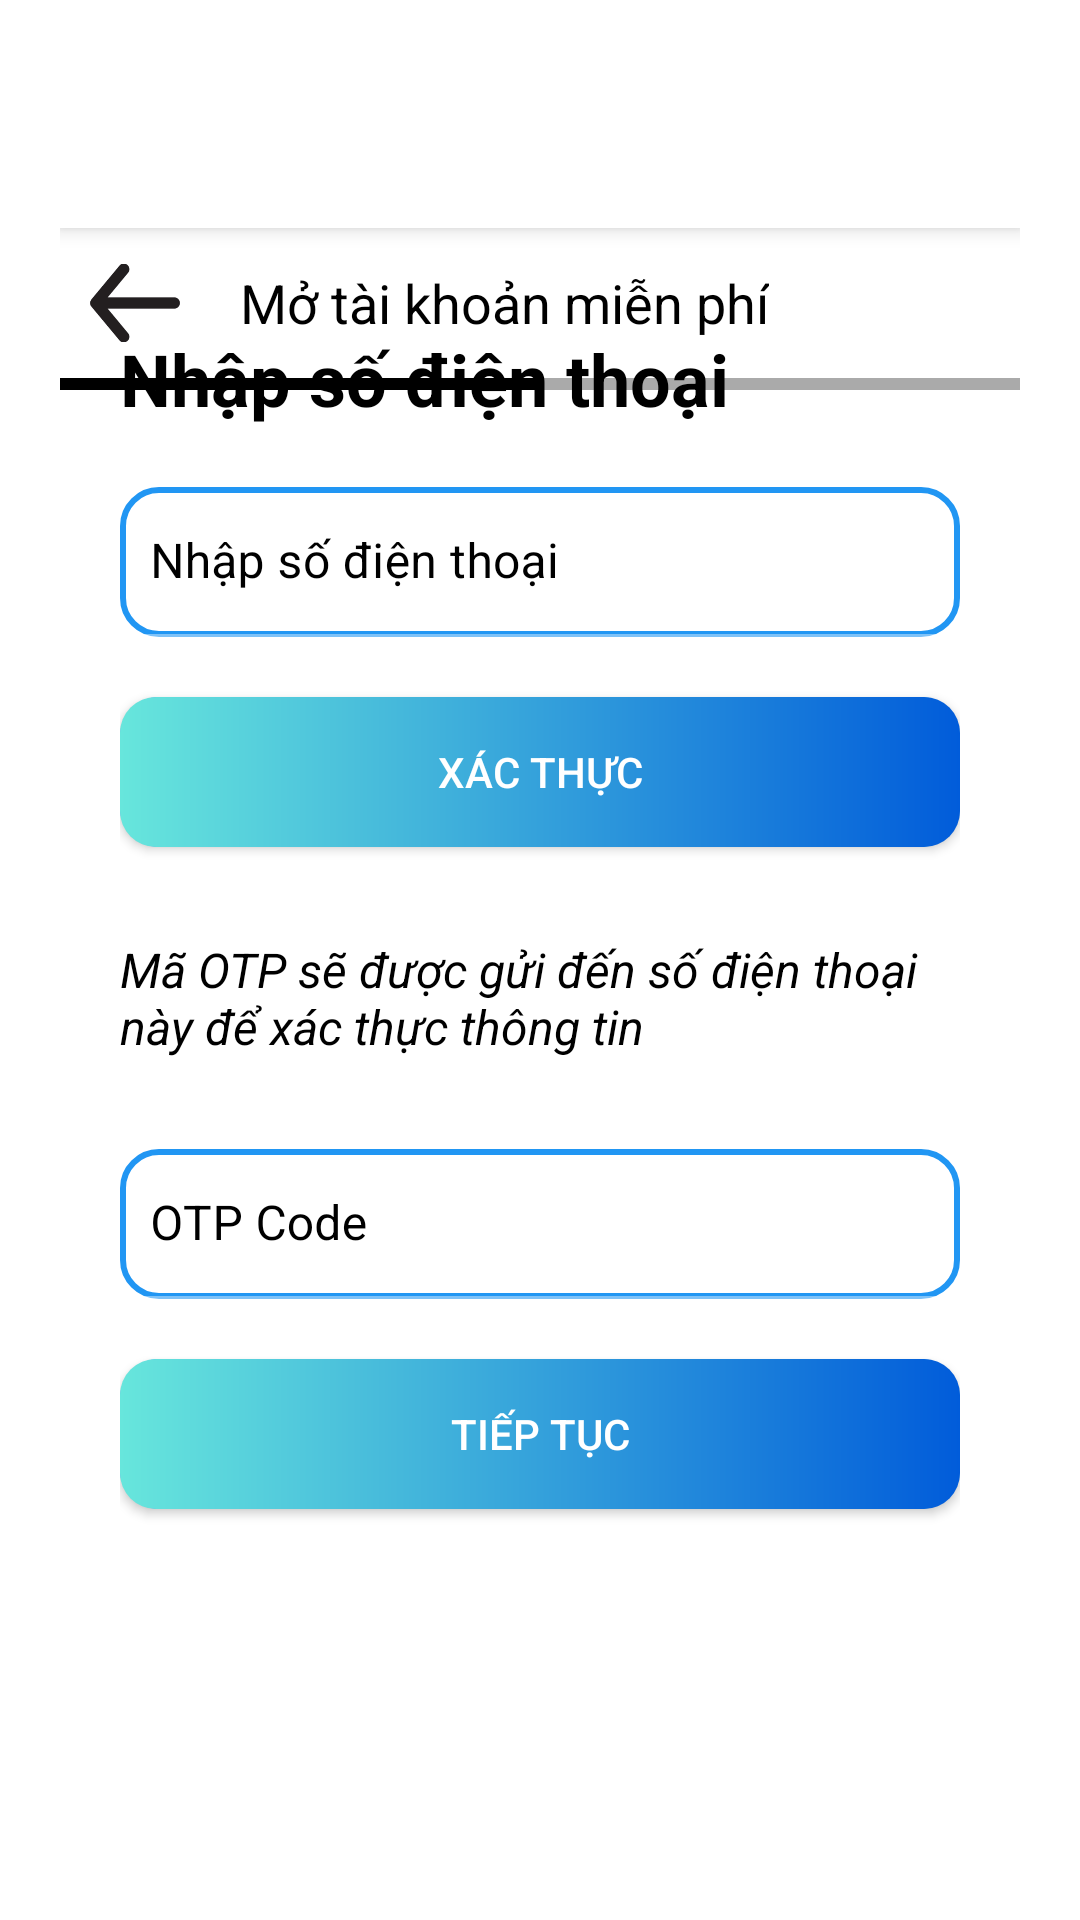

Icon click points for this 1080*1920 phone screenshot, format [x,y]:
arrow back: [135,303]
